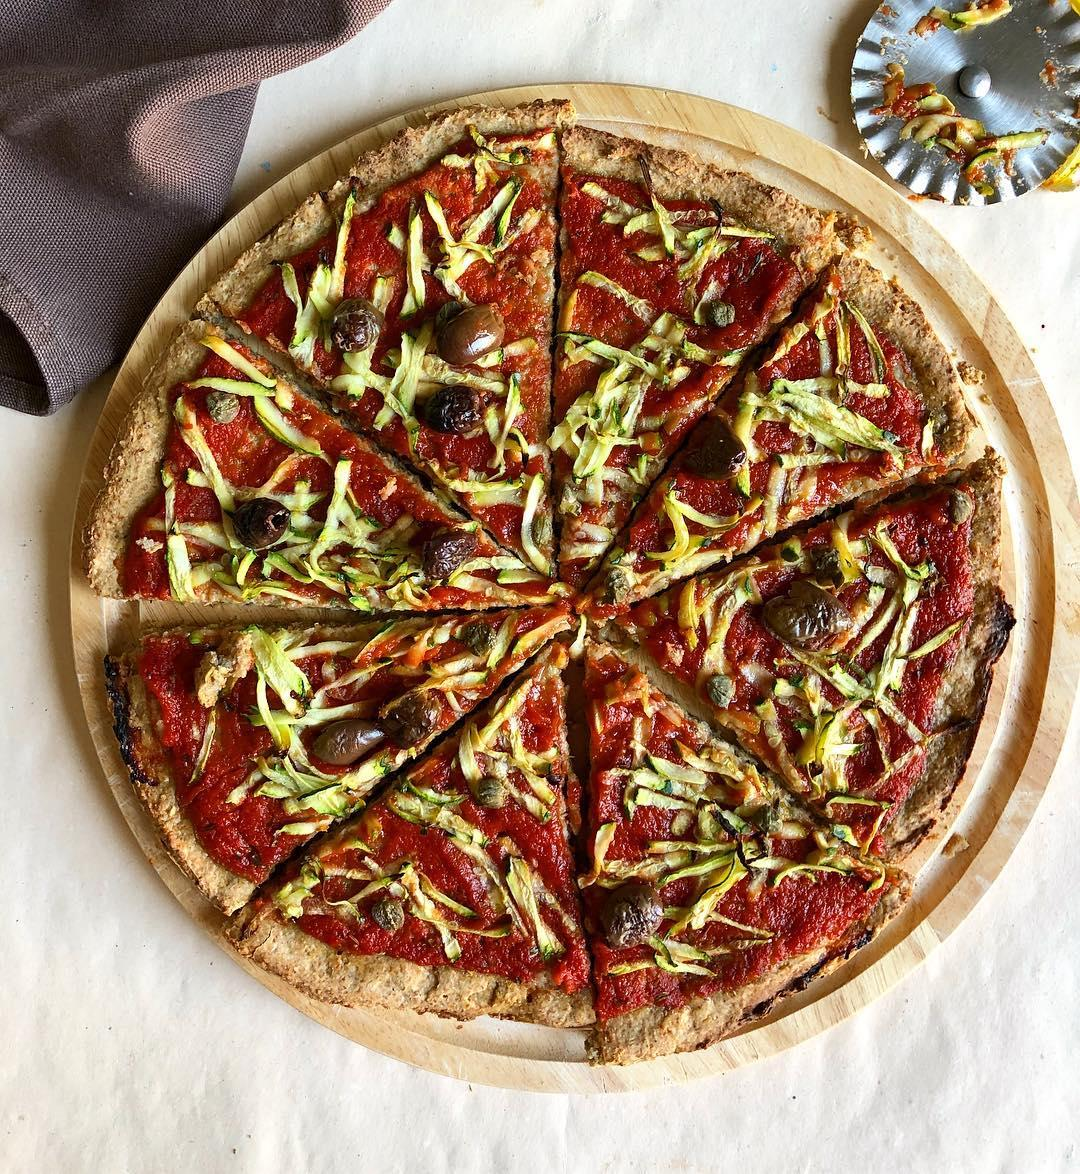Olives: (673, 414, 750, 491), (598, 873, 668, 955), (761, 577, 840, 647), (439, 295, 515, 365), (311, 710, 392, 765), (412, 382, 495, 432), (329, 290, 391, 356), (228, 492, 292, 549), (381, 687, 440, 744), (427, 524, 481, 578)
Pizza: (76, 89, 1026, 1063)
